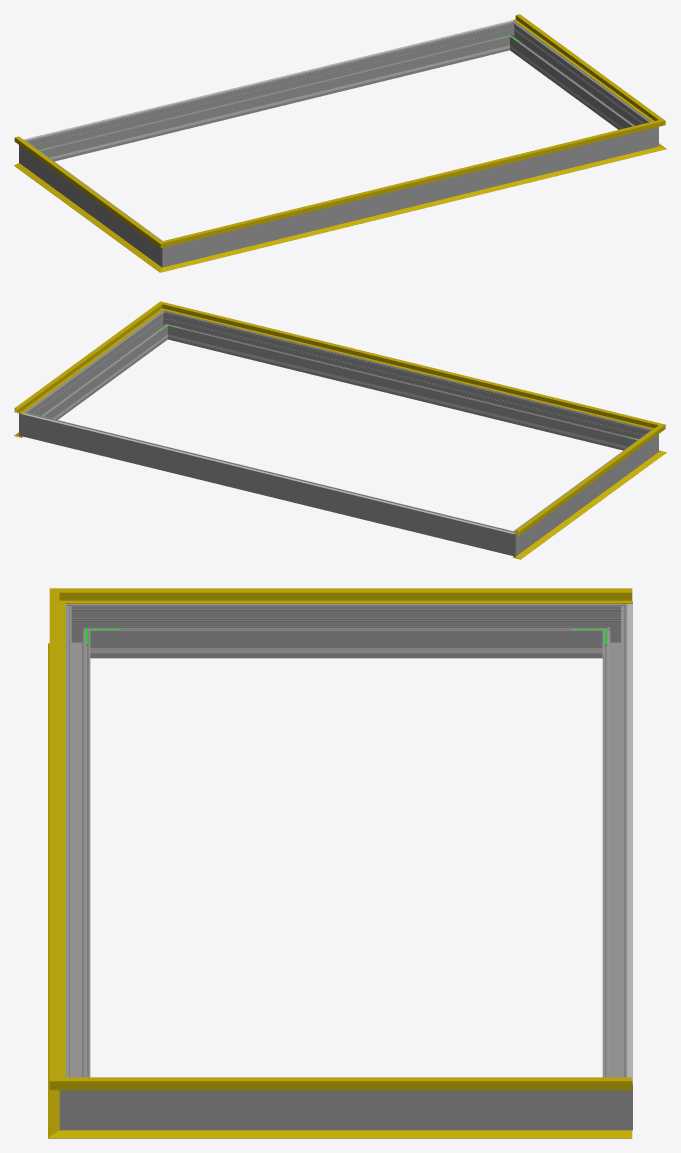
3 renders of one model, top to bottom at view 1: azimuth 30°, elevation 25°; view 2: azimuth 150°, elevation 25°; view 3: azimuth 270°, elevation 25°, orthographic. The views are drawn at different scales.
Visible parts, largest first — view 1: 3DGeom-276, 3DGeom-298, 3DGeom-297, 3DGeom-123, 3DGeom-268, 3DGeom-28, 3DGeom-128, 3DGeom-244, 3DGeom-118, 3DGeom-220, 3DGeom-38, 3DGeom-270; view 2: 3DGeom-298, 3DGeom-276, 3DGeom-123, 3DGeom-297, 3DGeom-268, 3DGeom-128, 3DGeom-239, 3DGeom-118, 3DGeom-220, 3DGeom-38, 3DGeom-278, 3DGeom-284; view 3: 3DGeom-268, 3DGeom-297, 3DGeom-298, 3DGeom-276, 3DGeom-118, 3DGeom-123, 3DGeom-128, 3DGeom-30, 3DGeom-220, 3DGeom-232, 3DGeom-290, 3DGeom-284 (+3 smaller).
Part boxes in pixels (x1=…): 3DGeom-276: x1=36, y1=24, x2=507, y2=161; 3DGeom-298: x1=178, y1=131, x2=642, y2=263; 3DGeom-297: x1=511, y1=27, x2=646, y2=129; 3DGeom-123: x1=174, y1=123, x2=649, y2=244; 3DGeom-268: x1=28, y1=146, x2=157, y2=260; 3DGeom-28: x1=173, y1=149, x2=650, y2=268; 3DGeom-128: x1=513, y1=14, x2=655, y2=119; 3DGeom-244: x1=55, y1=49, x2=494, y2=158; 3DGeom-118: x1=14, y1=136, x2=154, y2=241; 3DGeom-220: x1=24, y1=20, x2=513, y2=140; 3DGeom-38: x1=14, y1=163, x2=155, y2=265; 3DGeom-270: x1=153, y1=237, x2=177, y2=267; 3DGeom-298: x1=170, y1=313, x2=641, y2=450; 3DGeom-276: x1=34, y1=415, x2=502, y2=552; 3DGeom-123: x1=172, y1=305, x2=649, y2=427; 3DGeom-297: x1=30, y1=316, x2=166, y2=419; 3DGeom-268: x1=520, y1=435, x2=649, y2=549; 3DGeom-128: x1=14, y1=308, x2=157, y2=413; 3DGeom-239: x1=183, y1=338, x2=622, y2=447; 3DGeom-118: x1=513, y1=430, x2=656, y2=535; 3DGeom-220: x1=22, y1=413, x2=513, y2=533; 3DGeom-38: x1=513, y1=456, x2=657, y2=559; 3DGeom-278: x1=499, y1=526, x2=524, y2=556; 3DGeom-284: x1=19, y1=407, x2=37, y2=439; 3DGeom-268: x1=96, y1=604, x2=596, y2=658; 3DGeom-297: x1=96, y1=1090, x2=596, y2=1130; 3DGeom-298: x1=65, y1=616, x2=90, y2=1077; 3DGeom-276: x1=602, y1=616, x2=627, y2=1077; 3DGeom-118: x1=86, y1=588, x2=632, y2=603; 3DGeom-123: x1=49, y1=604, x2=65, y2=1074; 3DGeom-128: x1=86, y1=1077, x2=632, y2=1090; 3DGeom-30: x1=84, y1=1130, x2=632, y2=1138; 3DGeom-220: x1=627, y1=603, x2=632, y2=1083; 3DGeom-232: x1=125, y1=648, x2=567, y2=653; 3DGeom-290: x1=59, y1=1070, x2=96, y2=1130; 3DGeom-284: x1=596, y1=1070, x2=632, y2=1130.
Size of the model in its own units: 4.88 by 0.2596 by 2.44.
